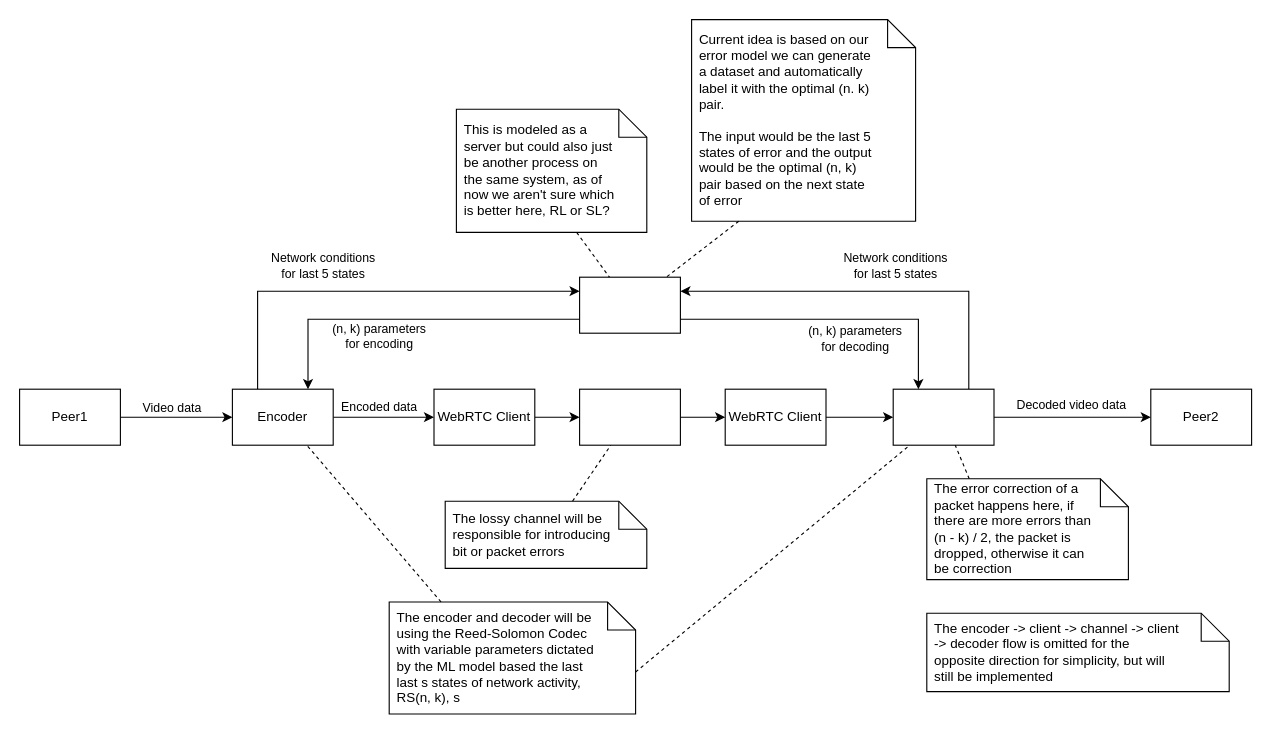
Image size: 1271x734. Some labels were removed from this diagram. Here are the shapes that lost their labels. From the top down, the centre of each, then its label:
the point at 629,304: ML Model Server
the point at 629,416: Lossy Channel
the point at 943,416: Decoder
